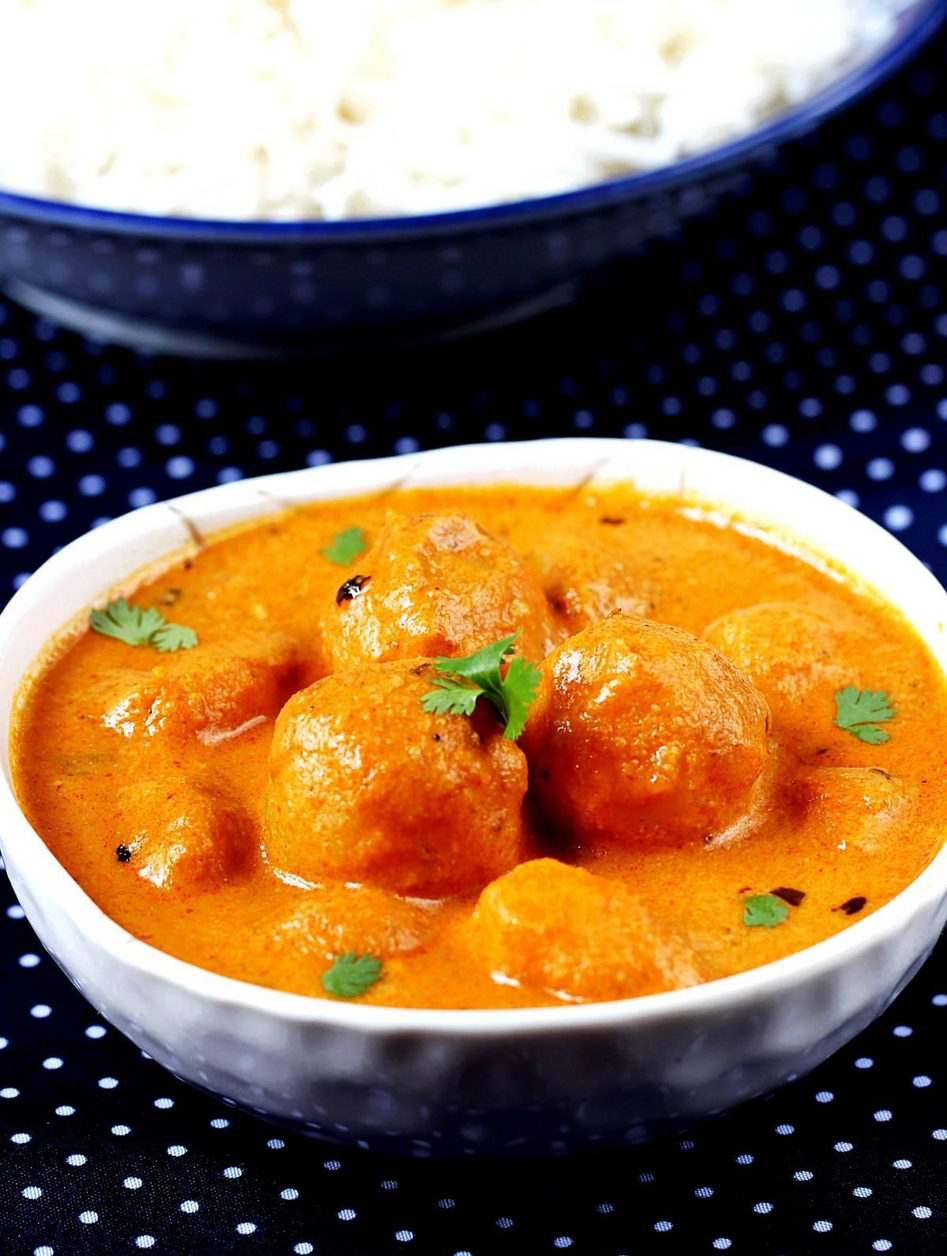DumAloo: (17, 482, 947, 1012)
WhiteRice: (0, 0, 883, 219)
